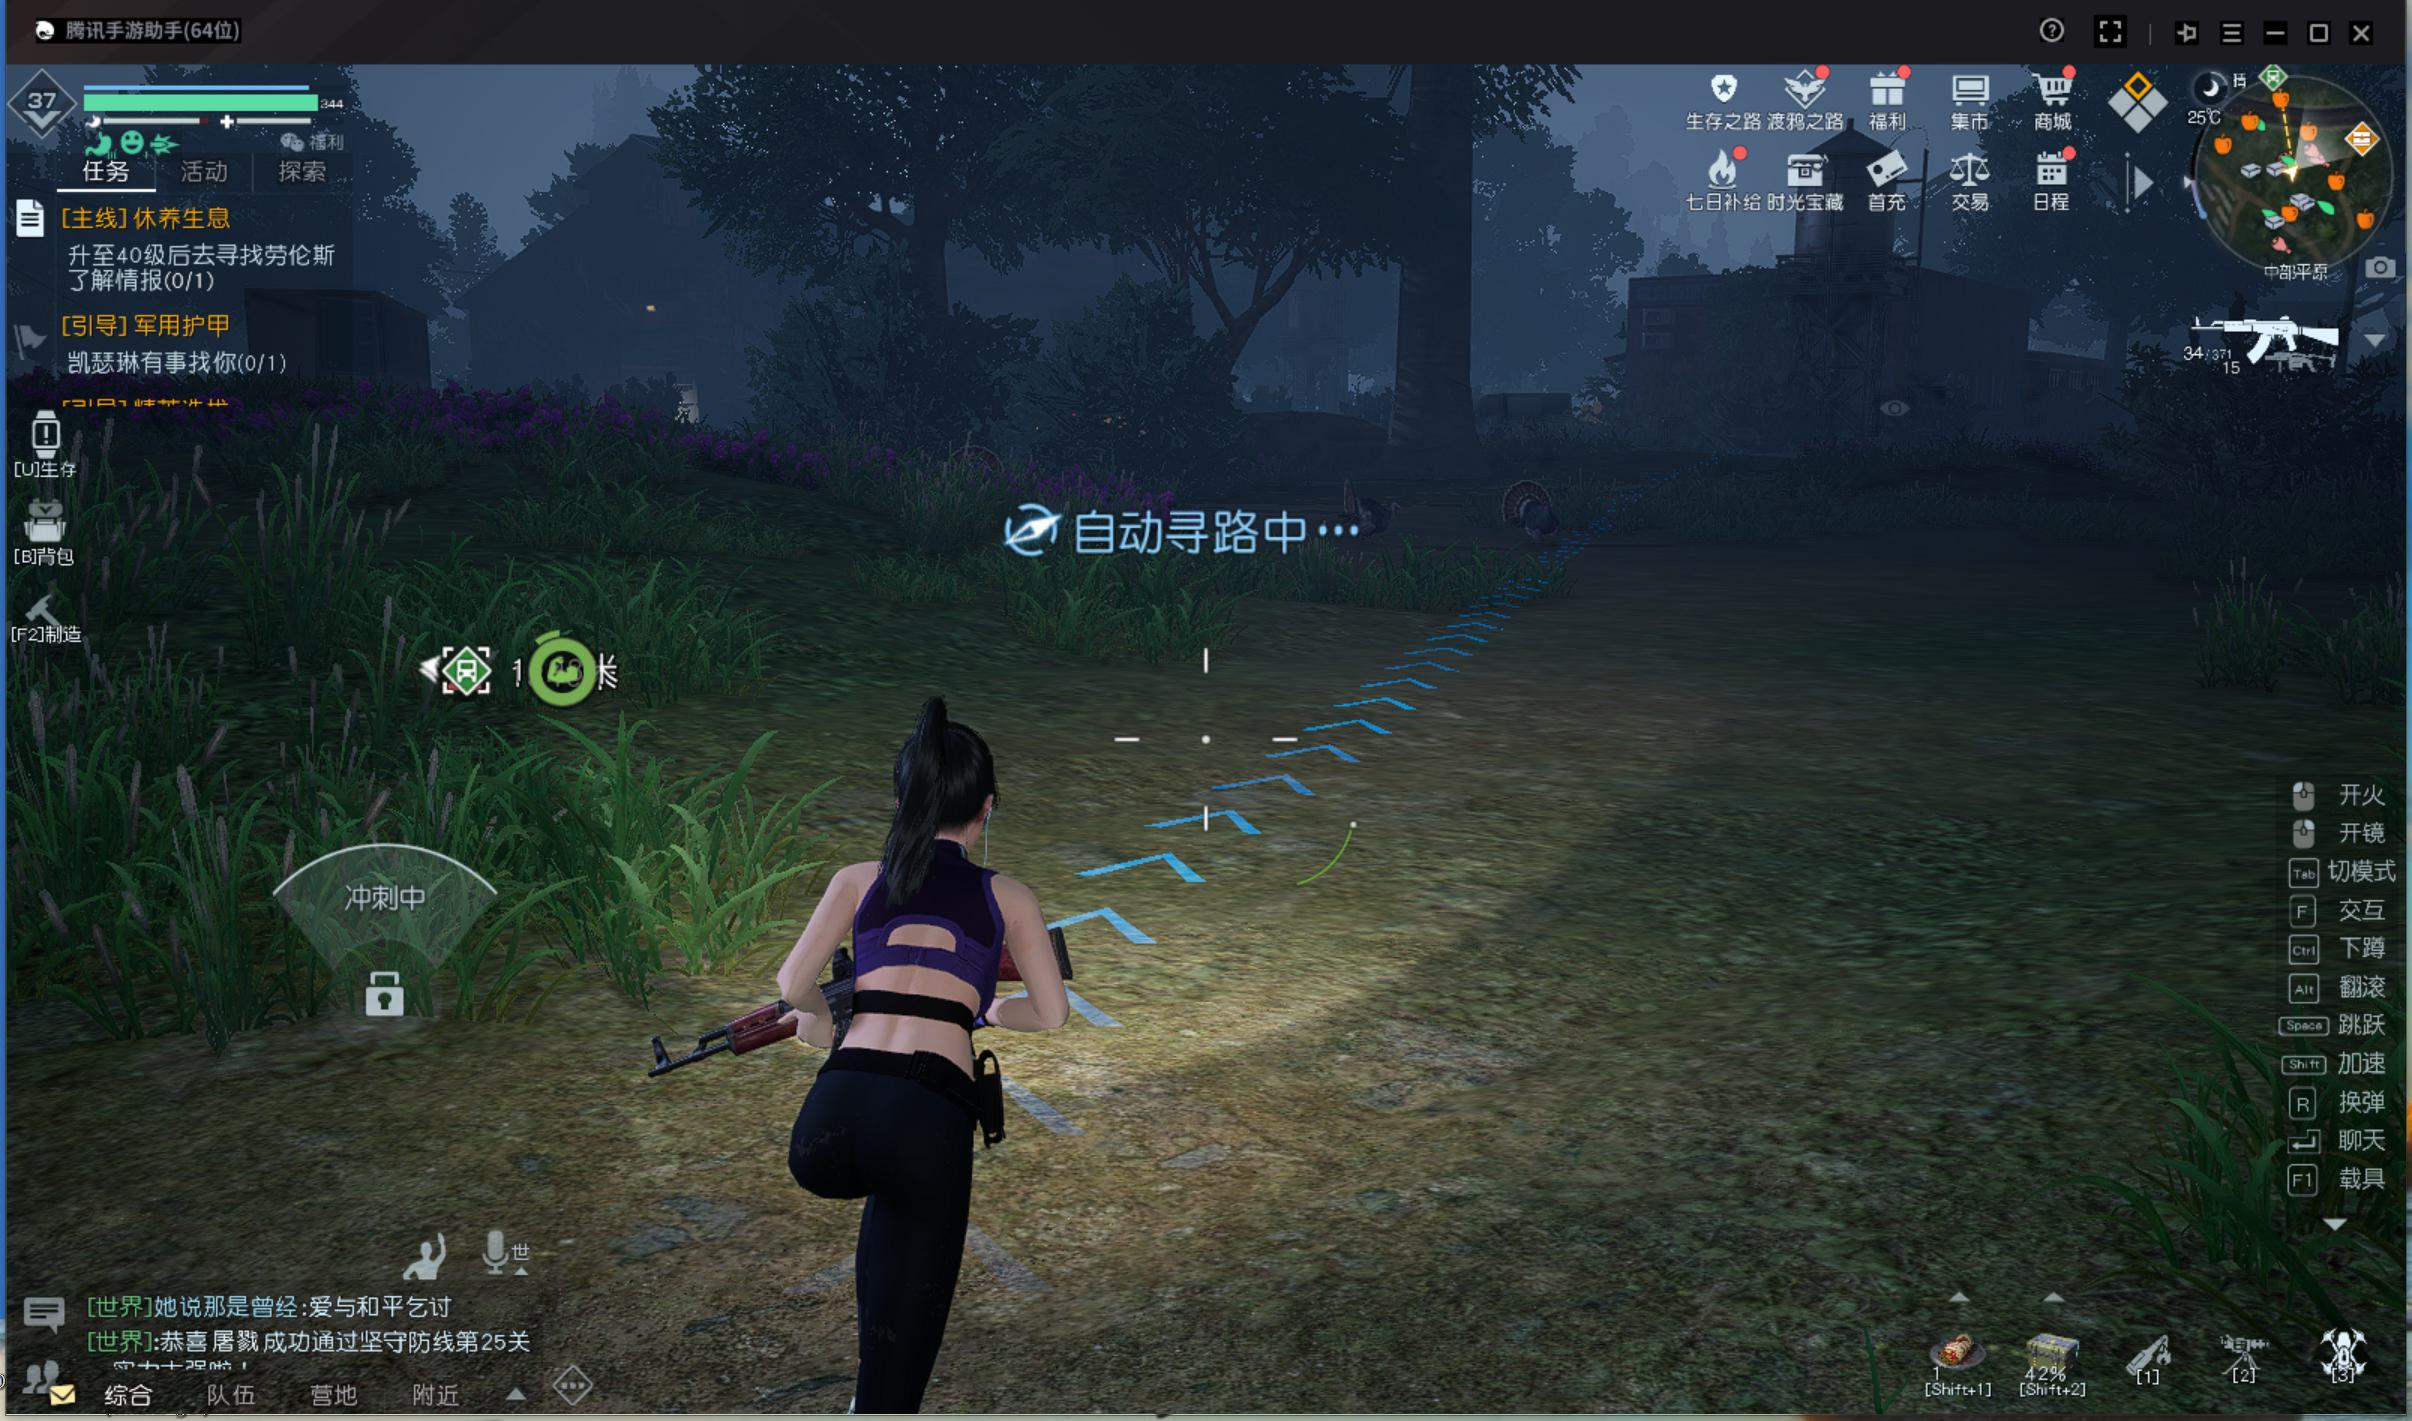tree: (1379, 179, 1477, 524), (900, 222, 969, 469)
